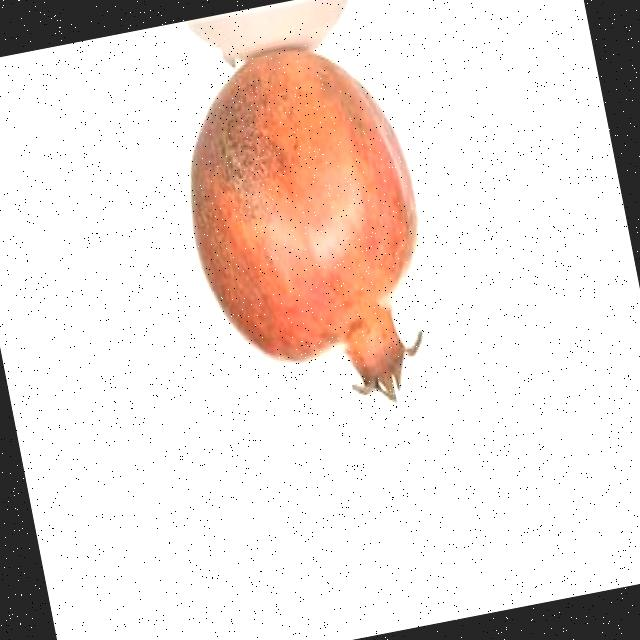Pomegranate: (158, 24, 456, 442)
